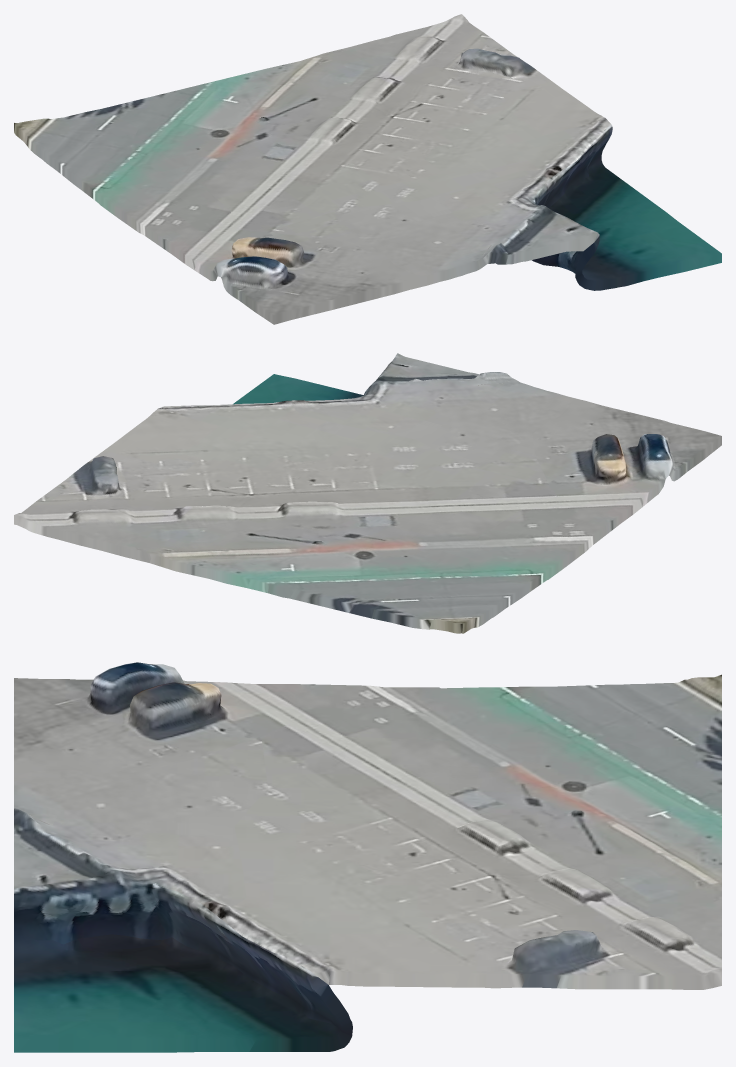
The model's file is z20-167773-405197-h0-yup-uvflip-v3-world.glb.
3 views of the same model, one above another, from view 1: azimuth 30°, elevation 25°; view 2: azimuth 150°, elevation 25°; view 3: azimuth 270°, elevation 25° (orthographic). The views are drawn at different scales.
Bounding box in the file's own units: 30.16 × 4.96 × 30.32.
1 material, 1 textured.
